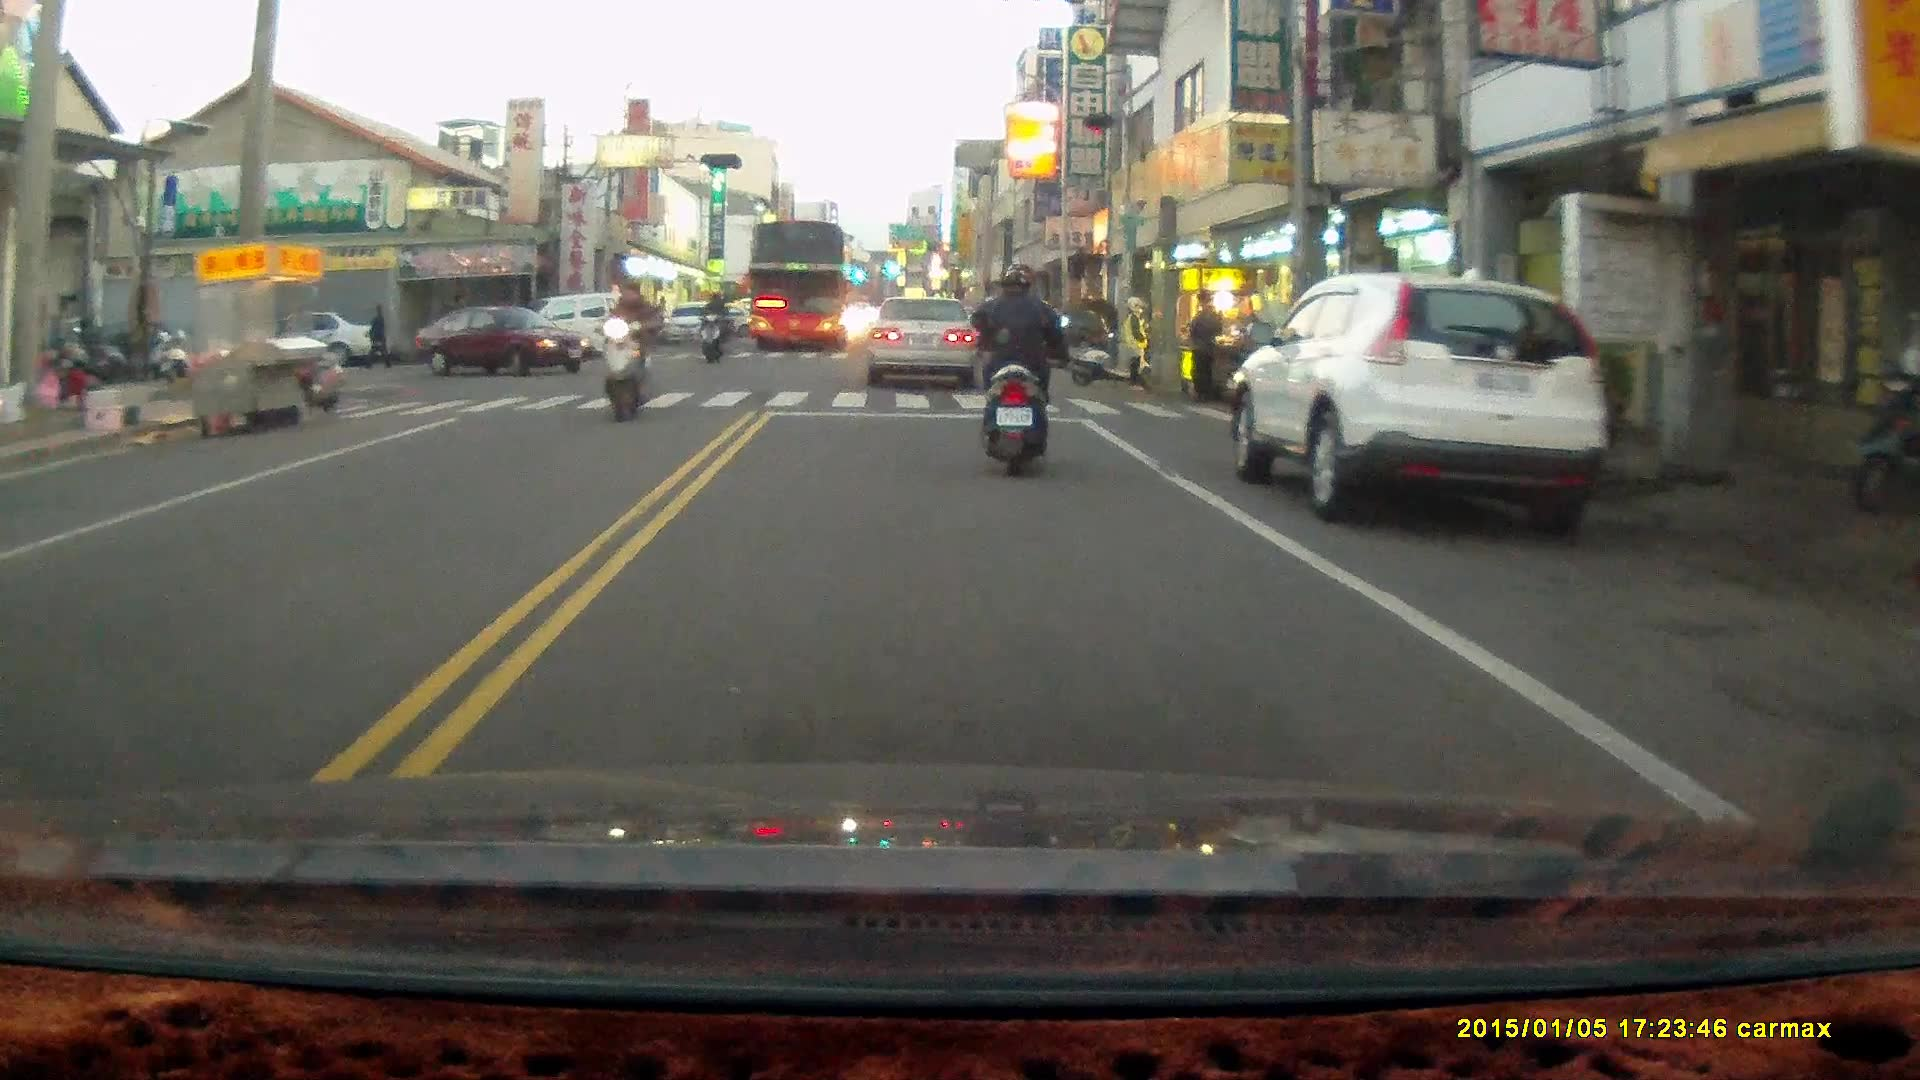pedestrian: (1188, 287, 1222, 404), (1119, 293, 1153, 393), (363, 302, 387, 370)
rider: (964, 262, 1069, 475), (595, 275, 653, 423), (697, 289, 727, 363)
vehicle: (1230, 273, 1611, 528), (737, 221, 855, 354), (422, 301, 589, 377), (865, 297, 978, 392), (236, 311, 382, 368)
